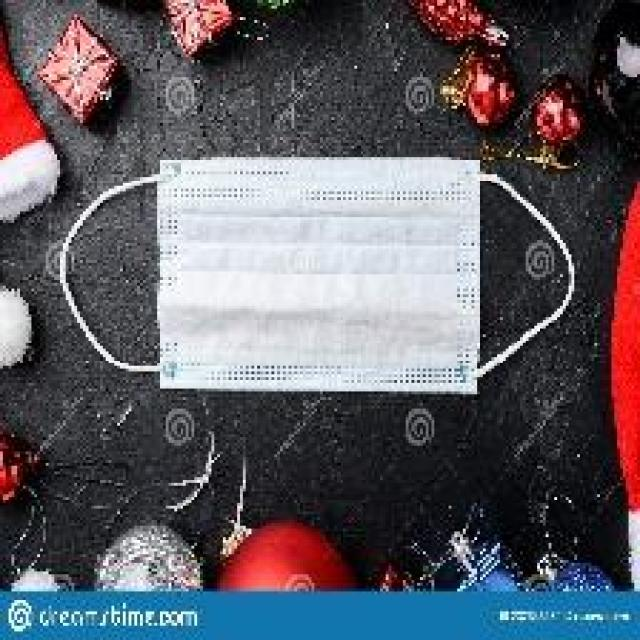Mask: (54, 126, 585, 416)
